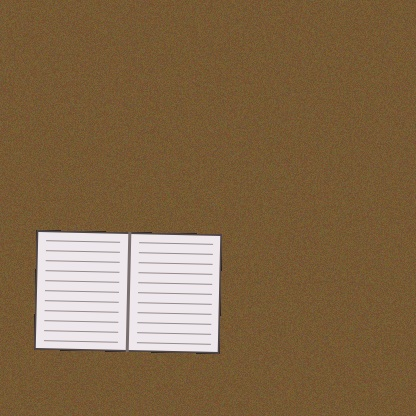book: (34, 230, 222, 354)
